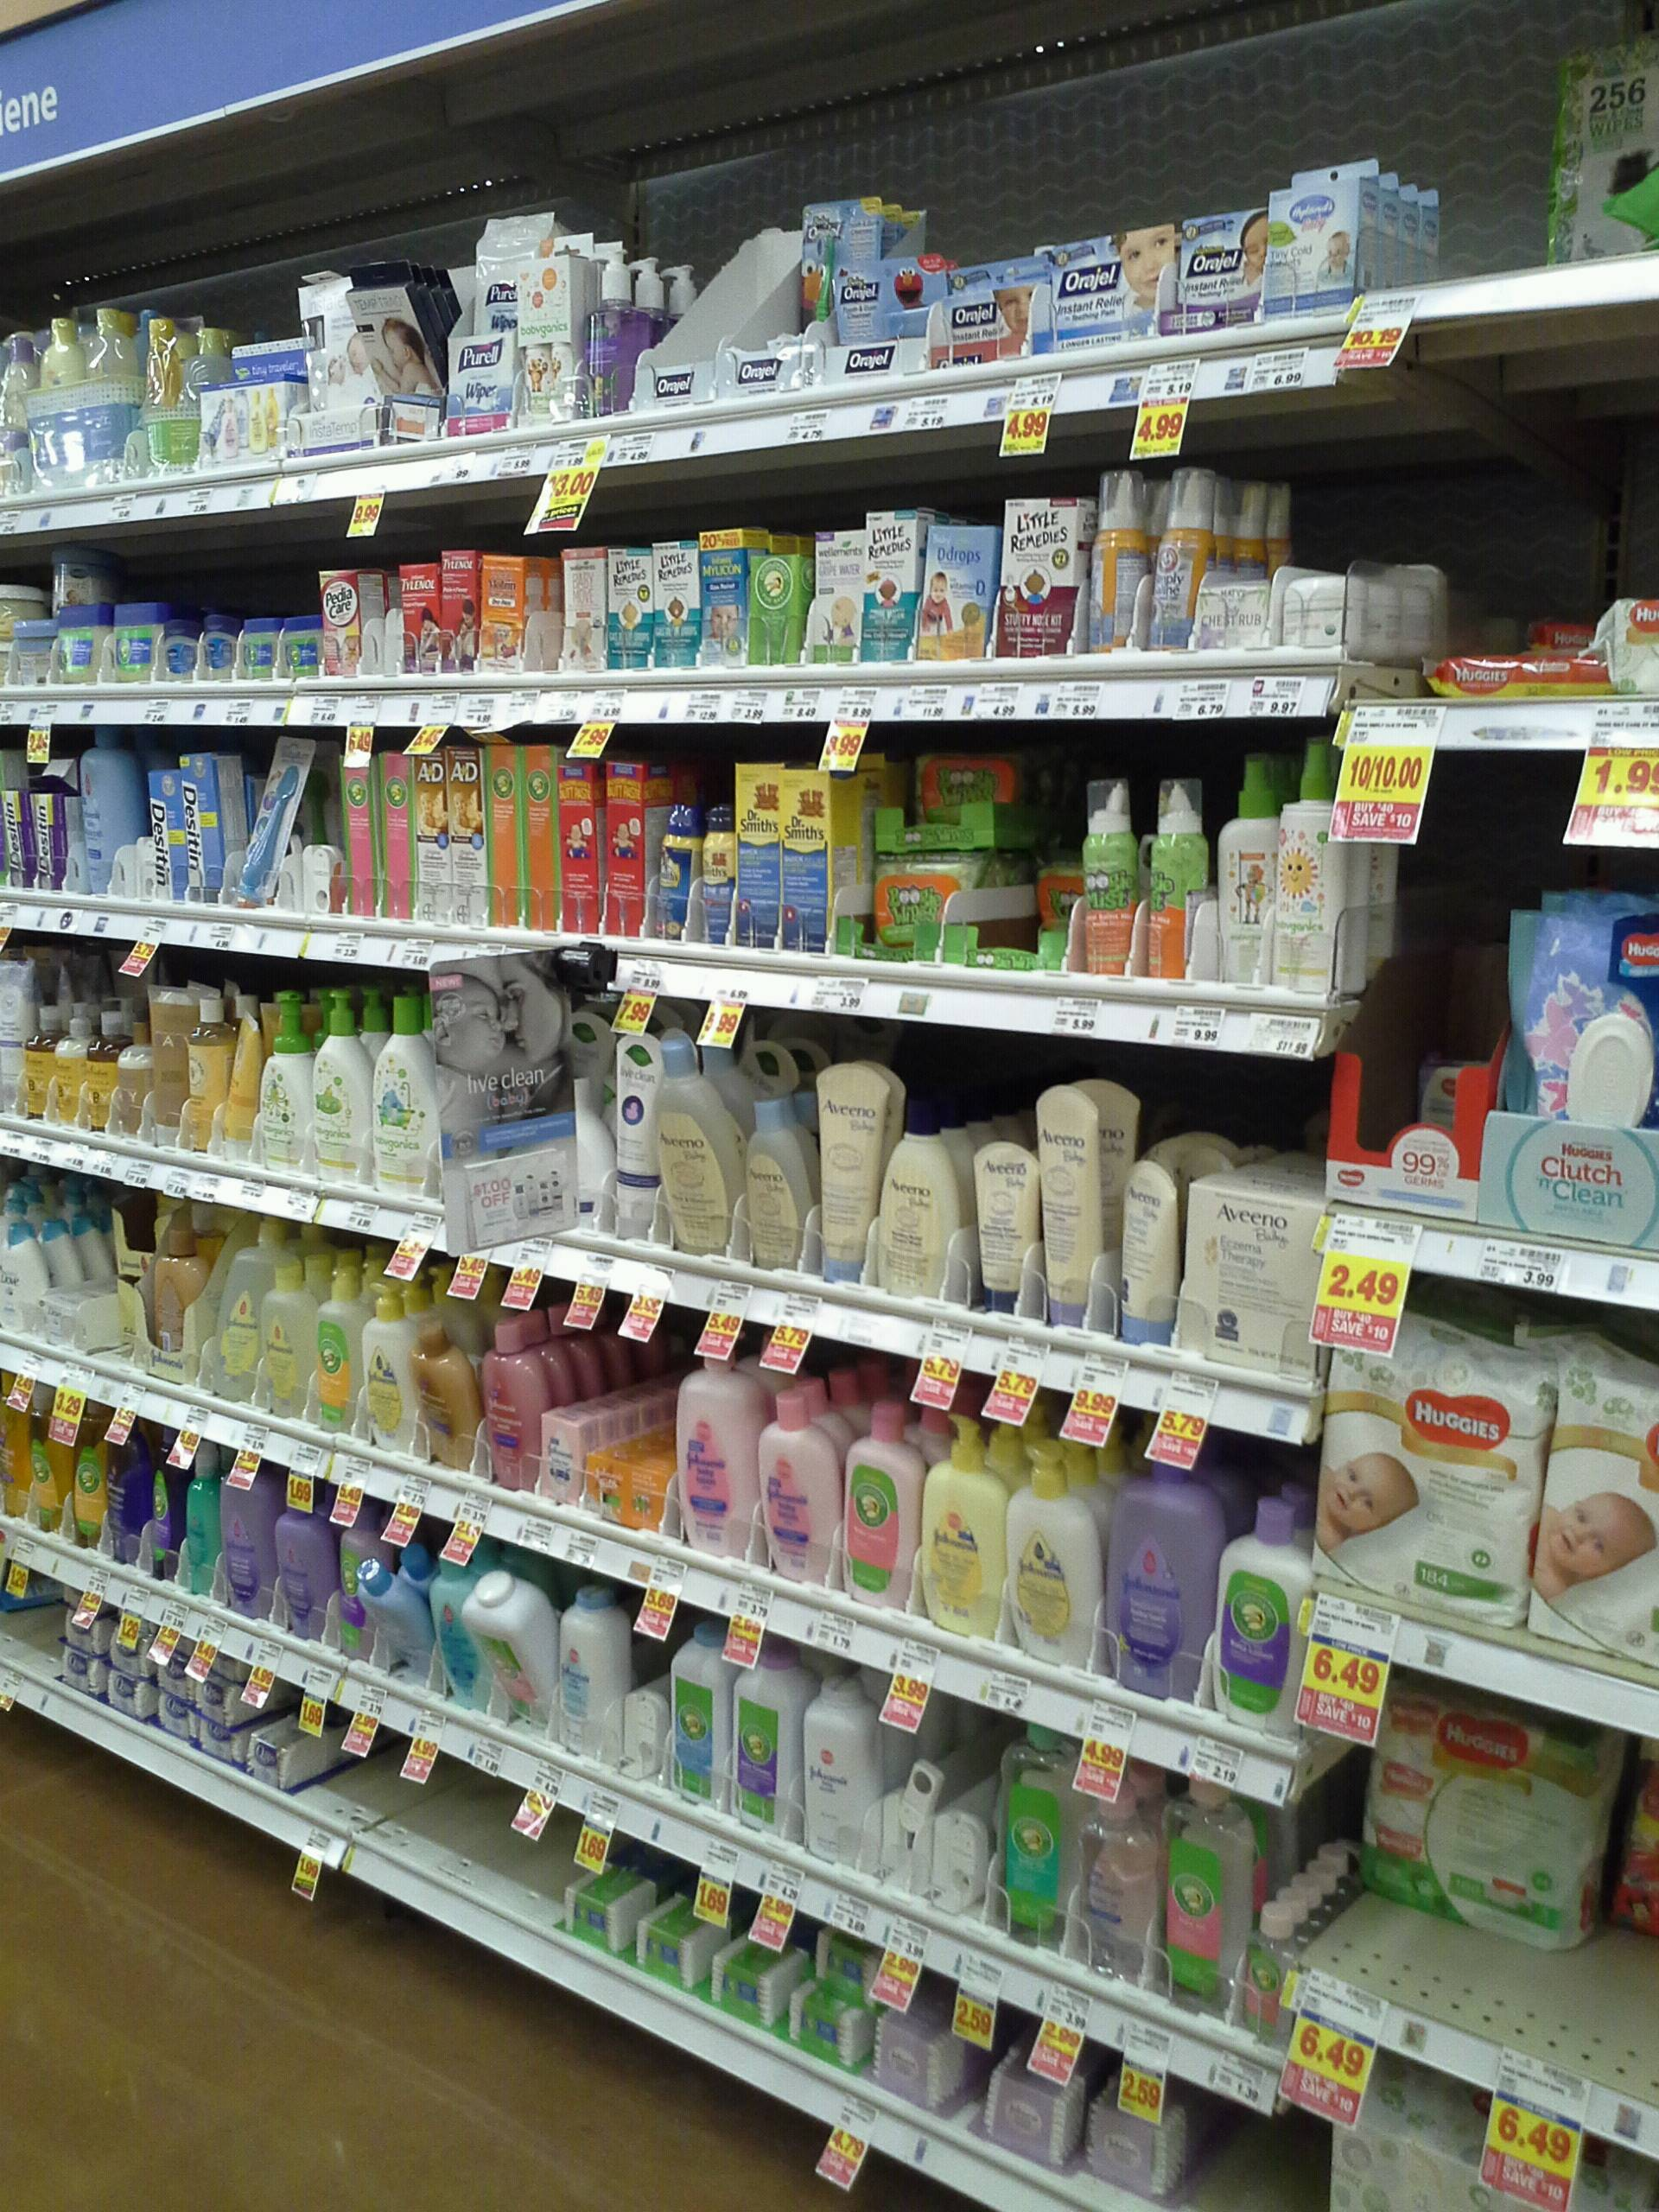Misplacement: (1321, 1651, 1607, 2088)
Out-of-stock: (300, 1728, 561, 1939)
